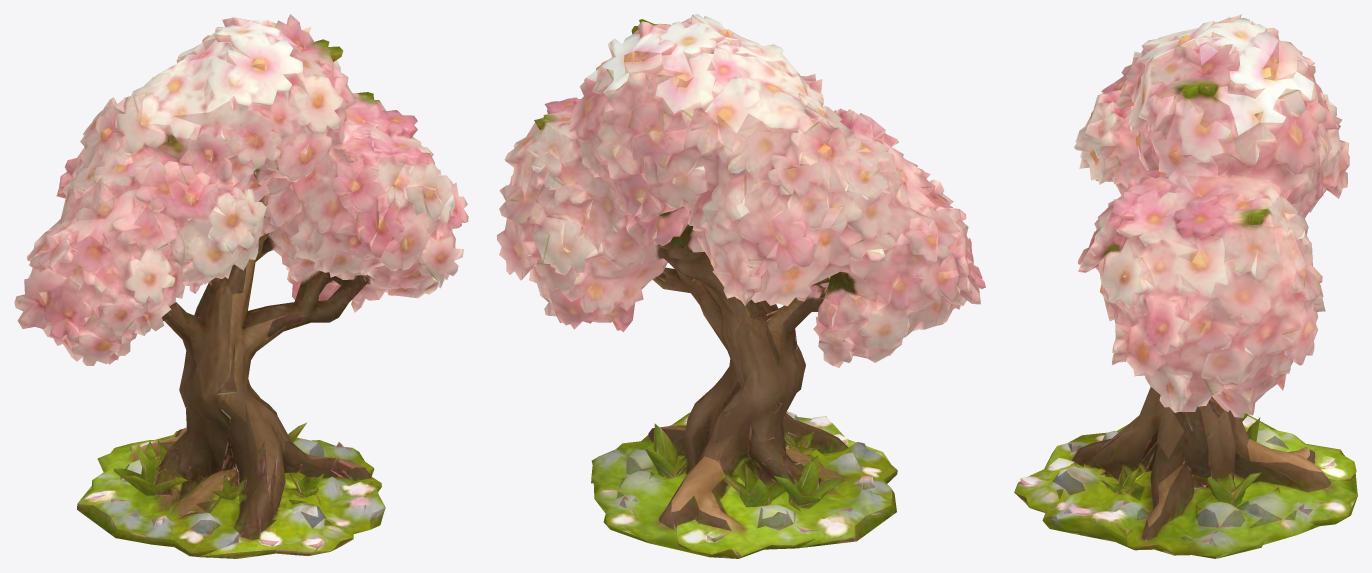
The model's file is tree-sakura.glb.
3 renders of one model, left to right at view 1: azimuth 30°, elevation 25°; view 2: azimuth 150°, elevation 25°; view 3: azimuth 270°, elevation 25°, orthographic. The views are drawn at different scales.
Parts seen in each view (by area): view 1: Mesh1.0; view 2: Mesh1.0; view 3: Mesh1.0.
Part boxes in pixels (x1,y1,x2,y2): Mesh1.0: (14,14,468,558); Mesh1.0: (497,14,985,558); Mesh1.0: (1014,14,1357,558).
Size of the model in its own units: 1.89 by 1.81 by 1.18.
Materials: 1 (1 with a texture image).
